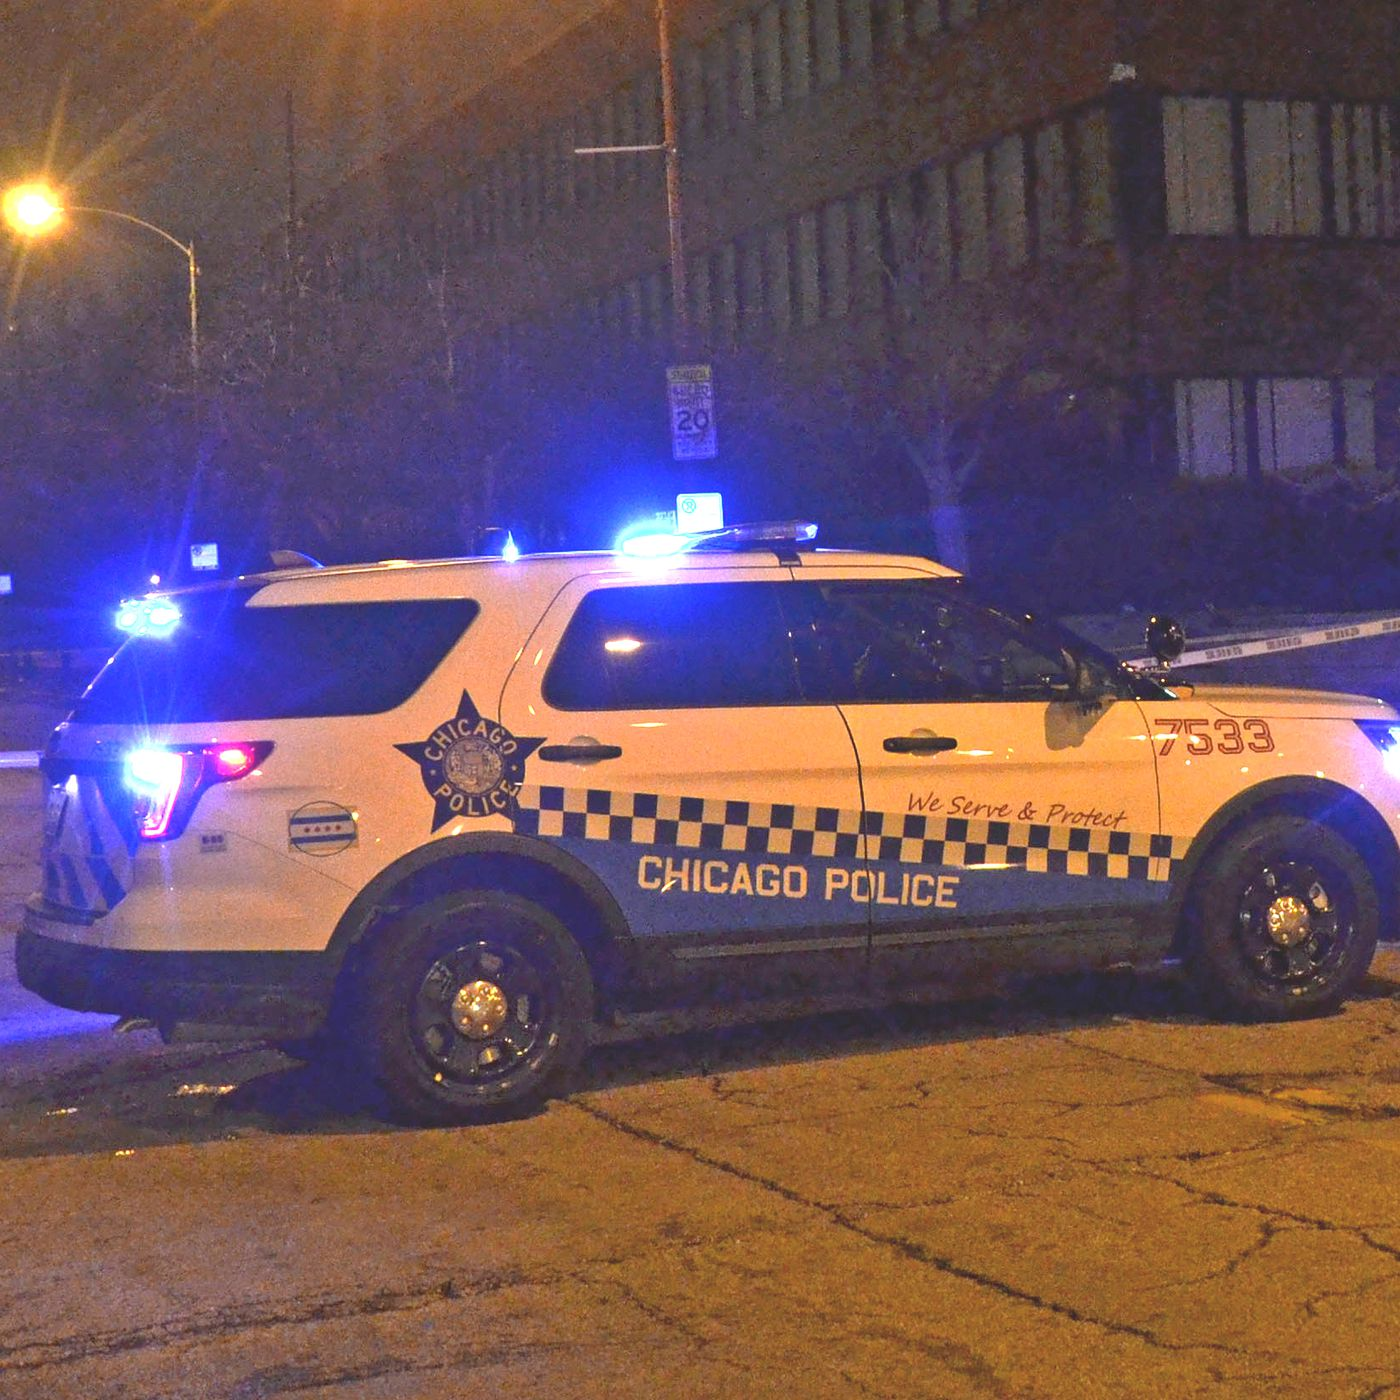special: (22, 526, 1395, 1126)
